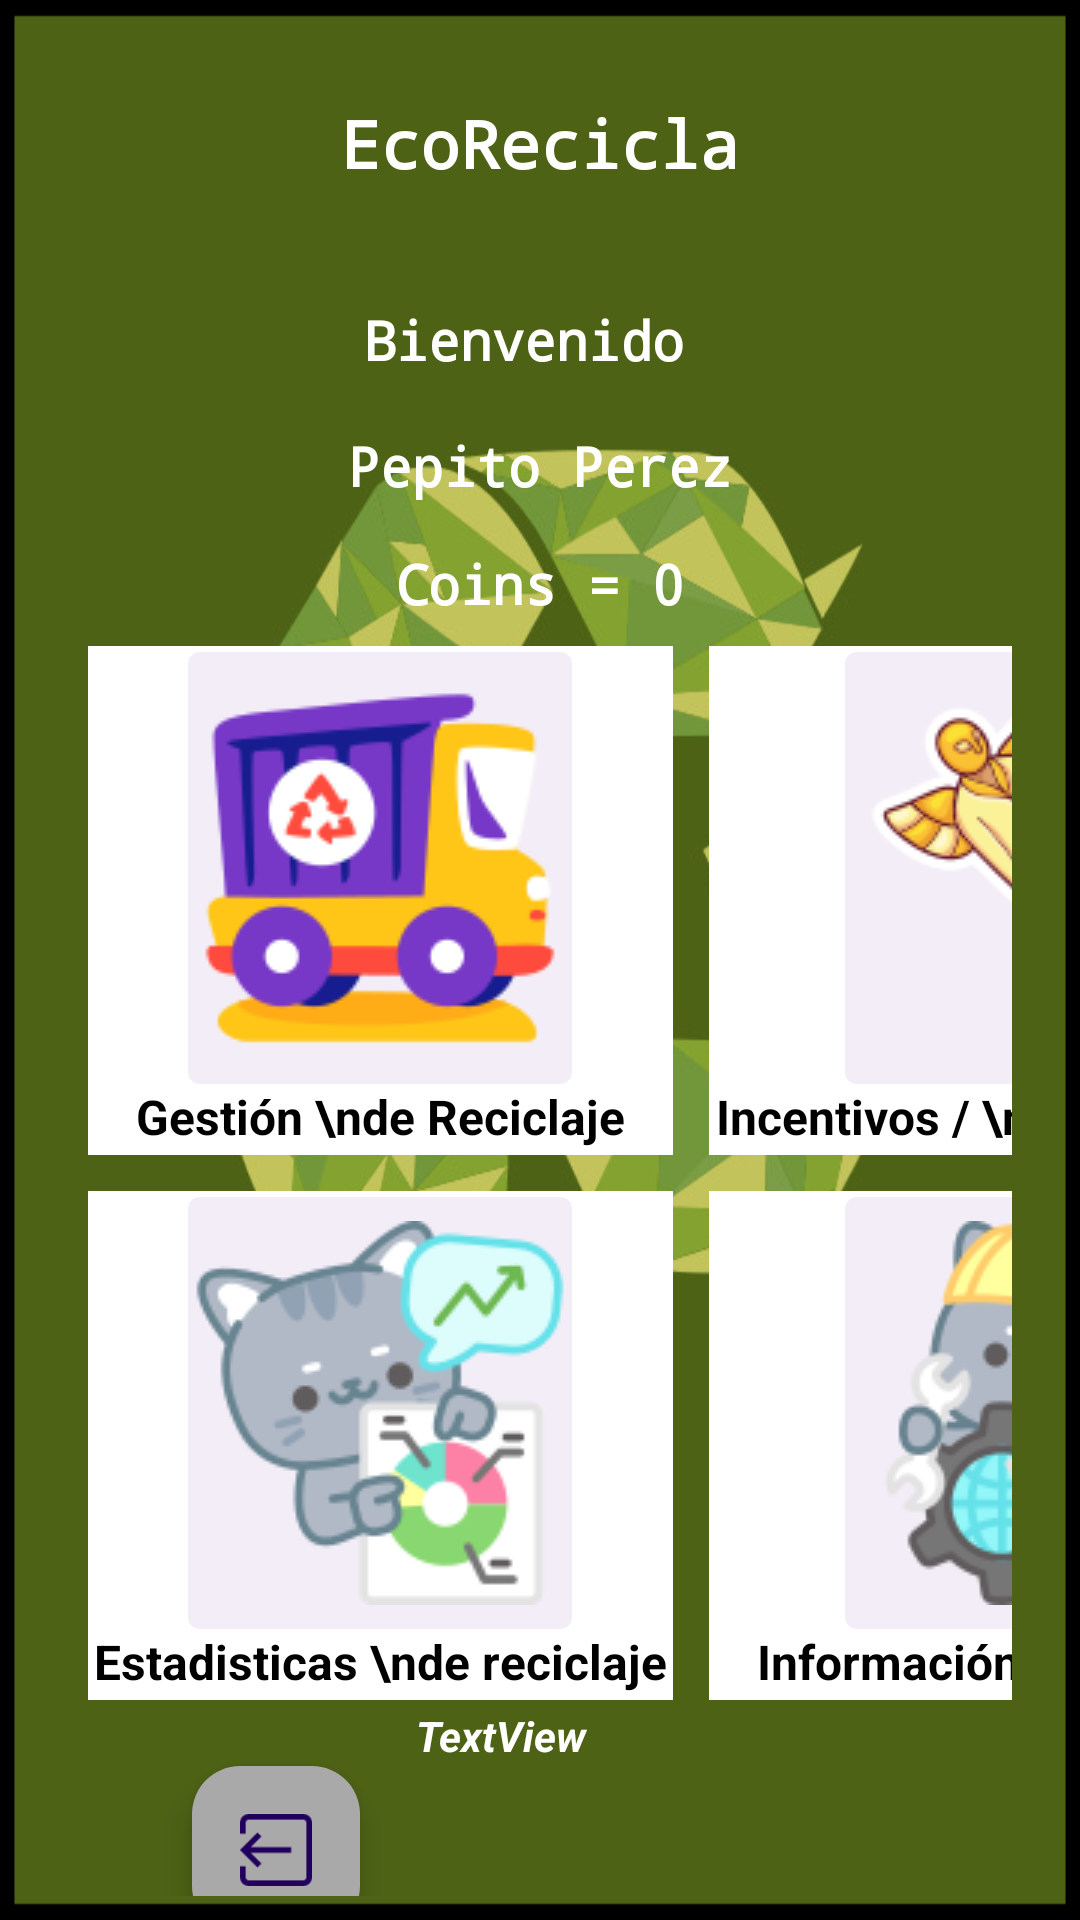

Named icons in this screenshot (1080px x 1920px) and their bounding boxes, [x1,y1,x2,y2]:
cerrar sesion: [192,1766,360,1896]
